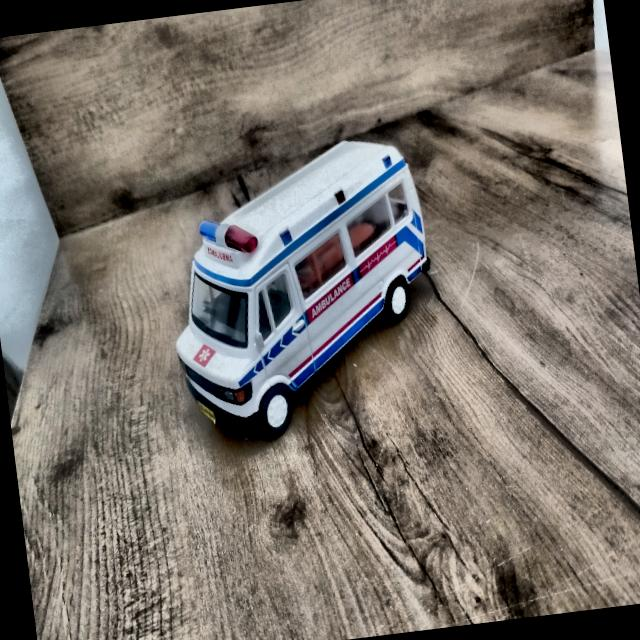Ambulance: (144, 128, 452, 452)
